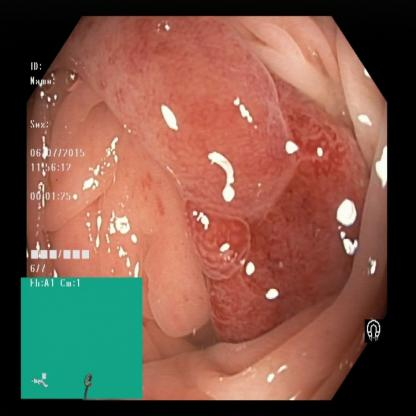Labels: (27, 60, 104, 272), (25, 277, 138, 401), (368, 310, 388, 352)
Polyps: (110, 46, 278, 192), (144, 220, 214, 344)
